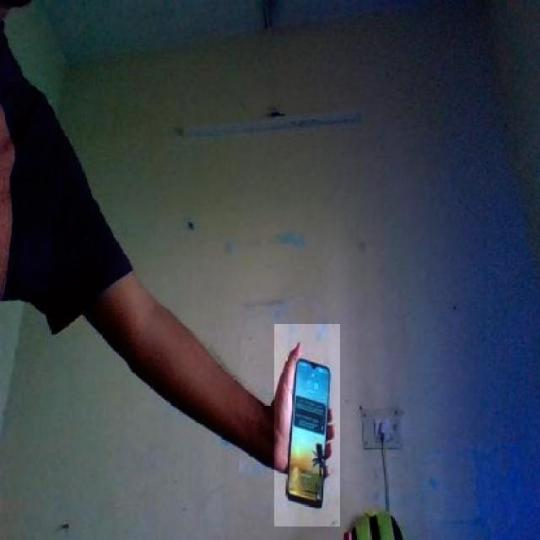phone: (287, 359, 332, 510)
